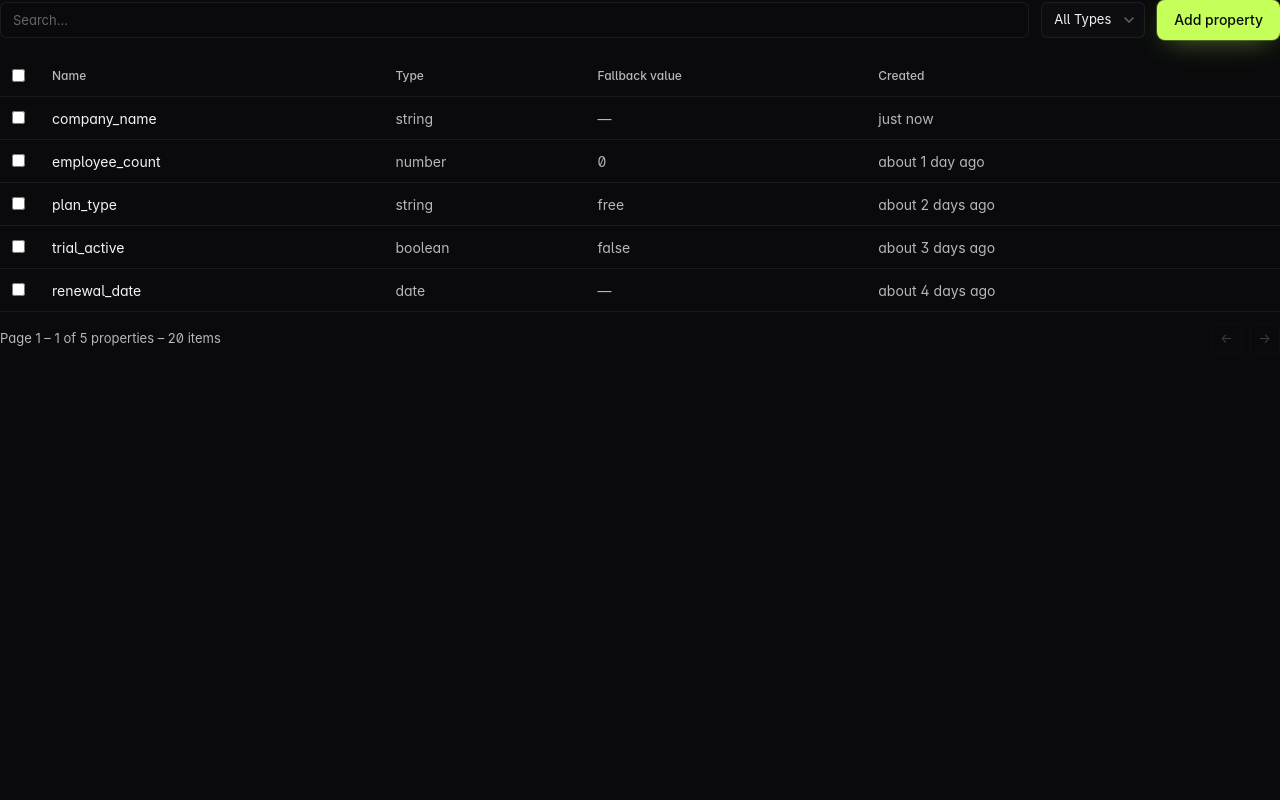
Test case: PropertiesList › add property modal shows Type options
This screenshot has width=1280, height=800.
Expected: the text "company_name" is shown, [40, 96, 383, 140]
Click 'Add property' button
Click the button "Add property" at (1219, 20), box [1157, 0, 1279, 40]
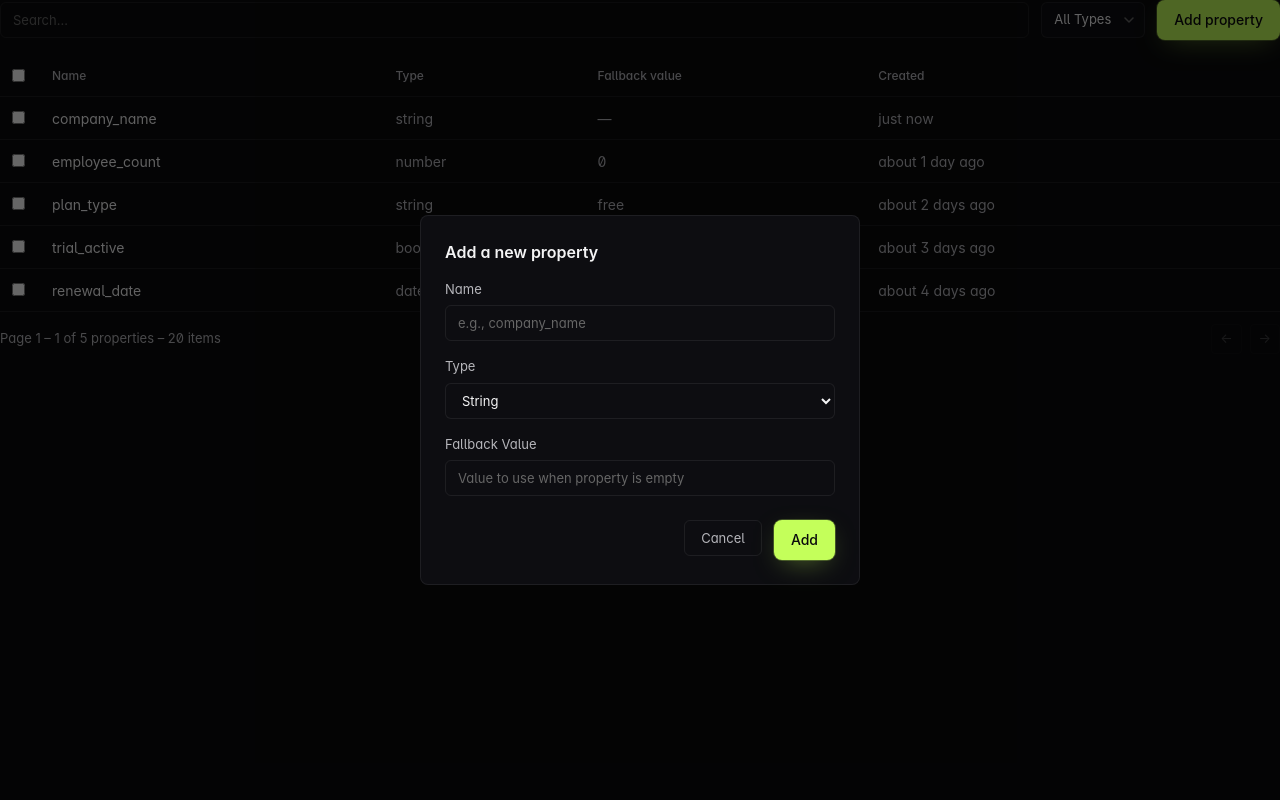
Result: the heading "Add a new property" is shown at [445, 242, 598, 262]
Result: the dropdown showing "String" is shown at [445, 383, 835, 419]
